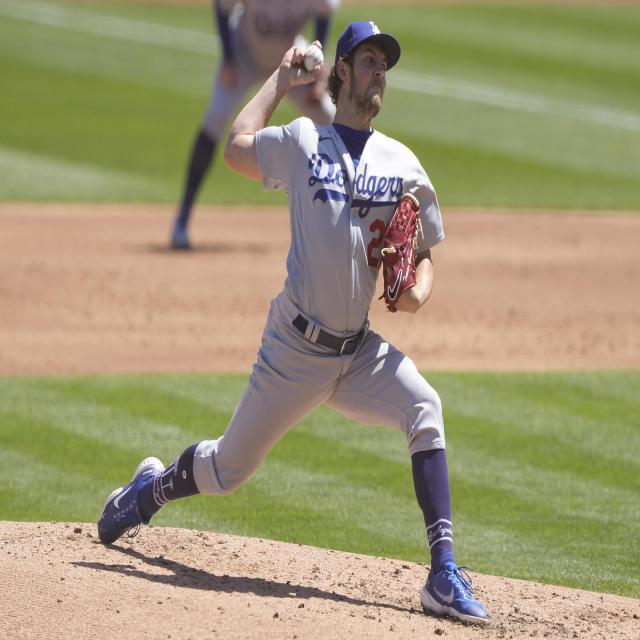baseball: (304, 43, 324, 70)
